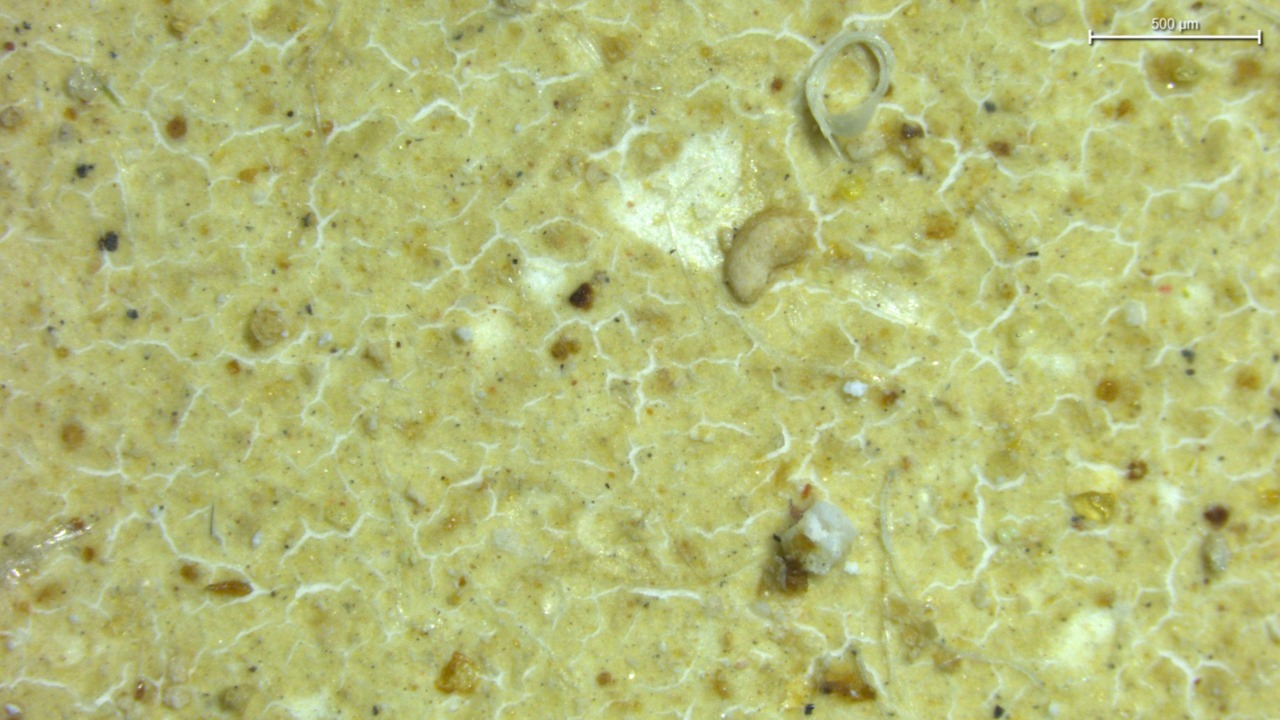microplastic_fragment: (722, 198, 818, 309), (781, 507, 858, 574)
